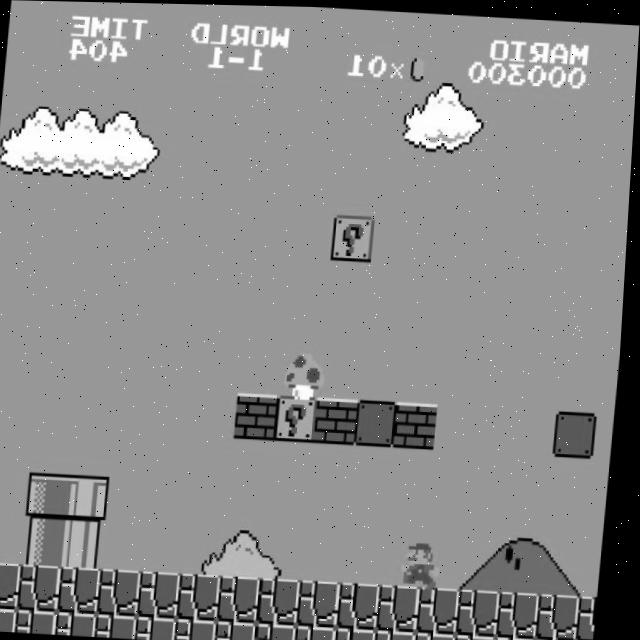1- brick_block: (397, 399, 442, 447), (318, 395, 363, 443), (238, 391, 283, 439)
11- little_mario: (403, 538, 451, 588)
12- mushroom: (286, 348, 334, 398)
13- mystery_block: (278, 393, 323, 441), (332, 213, 377, 260)
14- pipe: (27, 517, 72, 565), (67, 520, 112, 567)
15- pipe_head: (70, 474, 115, 522), (31, 472, 76, 520)
17- undestructible_block: (502, 589, 548, 637), (422, 584, 468, 632), (462, 587, 508, 634), (542, 590, 587, 638), (383, 582, 428, 630), (343, 580, 388, 628), (303, 578, 348, 626), (263, 576, 308, 624), (223, 574, 268, 622), (143, 569, 188, 617), (103, 568, 148, 616), (23, 563, 68, 611), (183, 572, 228, 619), (63, 566, 108, 613), (0, 561, 28, 609), (101, 613, 145, 638), (61, 611, 105, 636), (141, 615, 184, 640), (22, 609, 65, 634), (181, 617, 224, 640), (583, 592, 604, 639), (221, 619, 264, 640), (260, 621, 303, 640), (300, 624, 343, 640), (340, 625, 383, 640), (0, 607, 25, 631), (380, 627, 423, 640), (420, 630, 463, 640), (460, 632, 503, 640), (500, 634, 543, 640), (540, 636, 583, 640), (581, 638, 600, 640)
3- empty_block: (557, 408, 602, 456), (358, 398, 403, 445)
